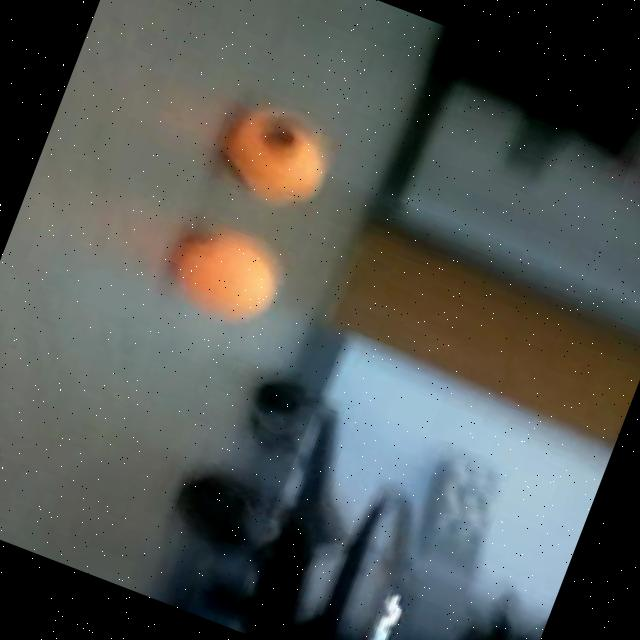ping-pong-ball: (206, 94, 352, 225), (158, 214, 300, 340)
